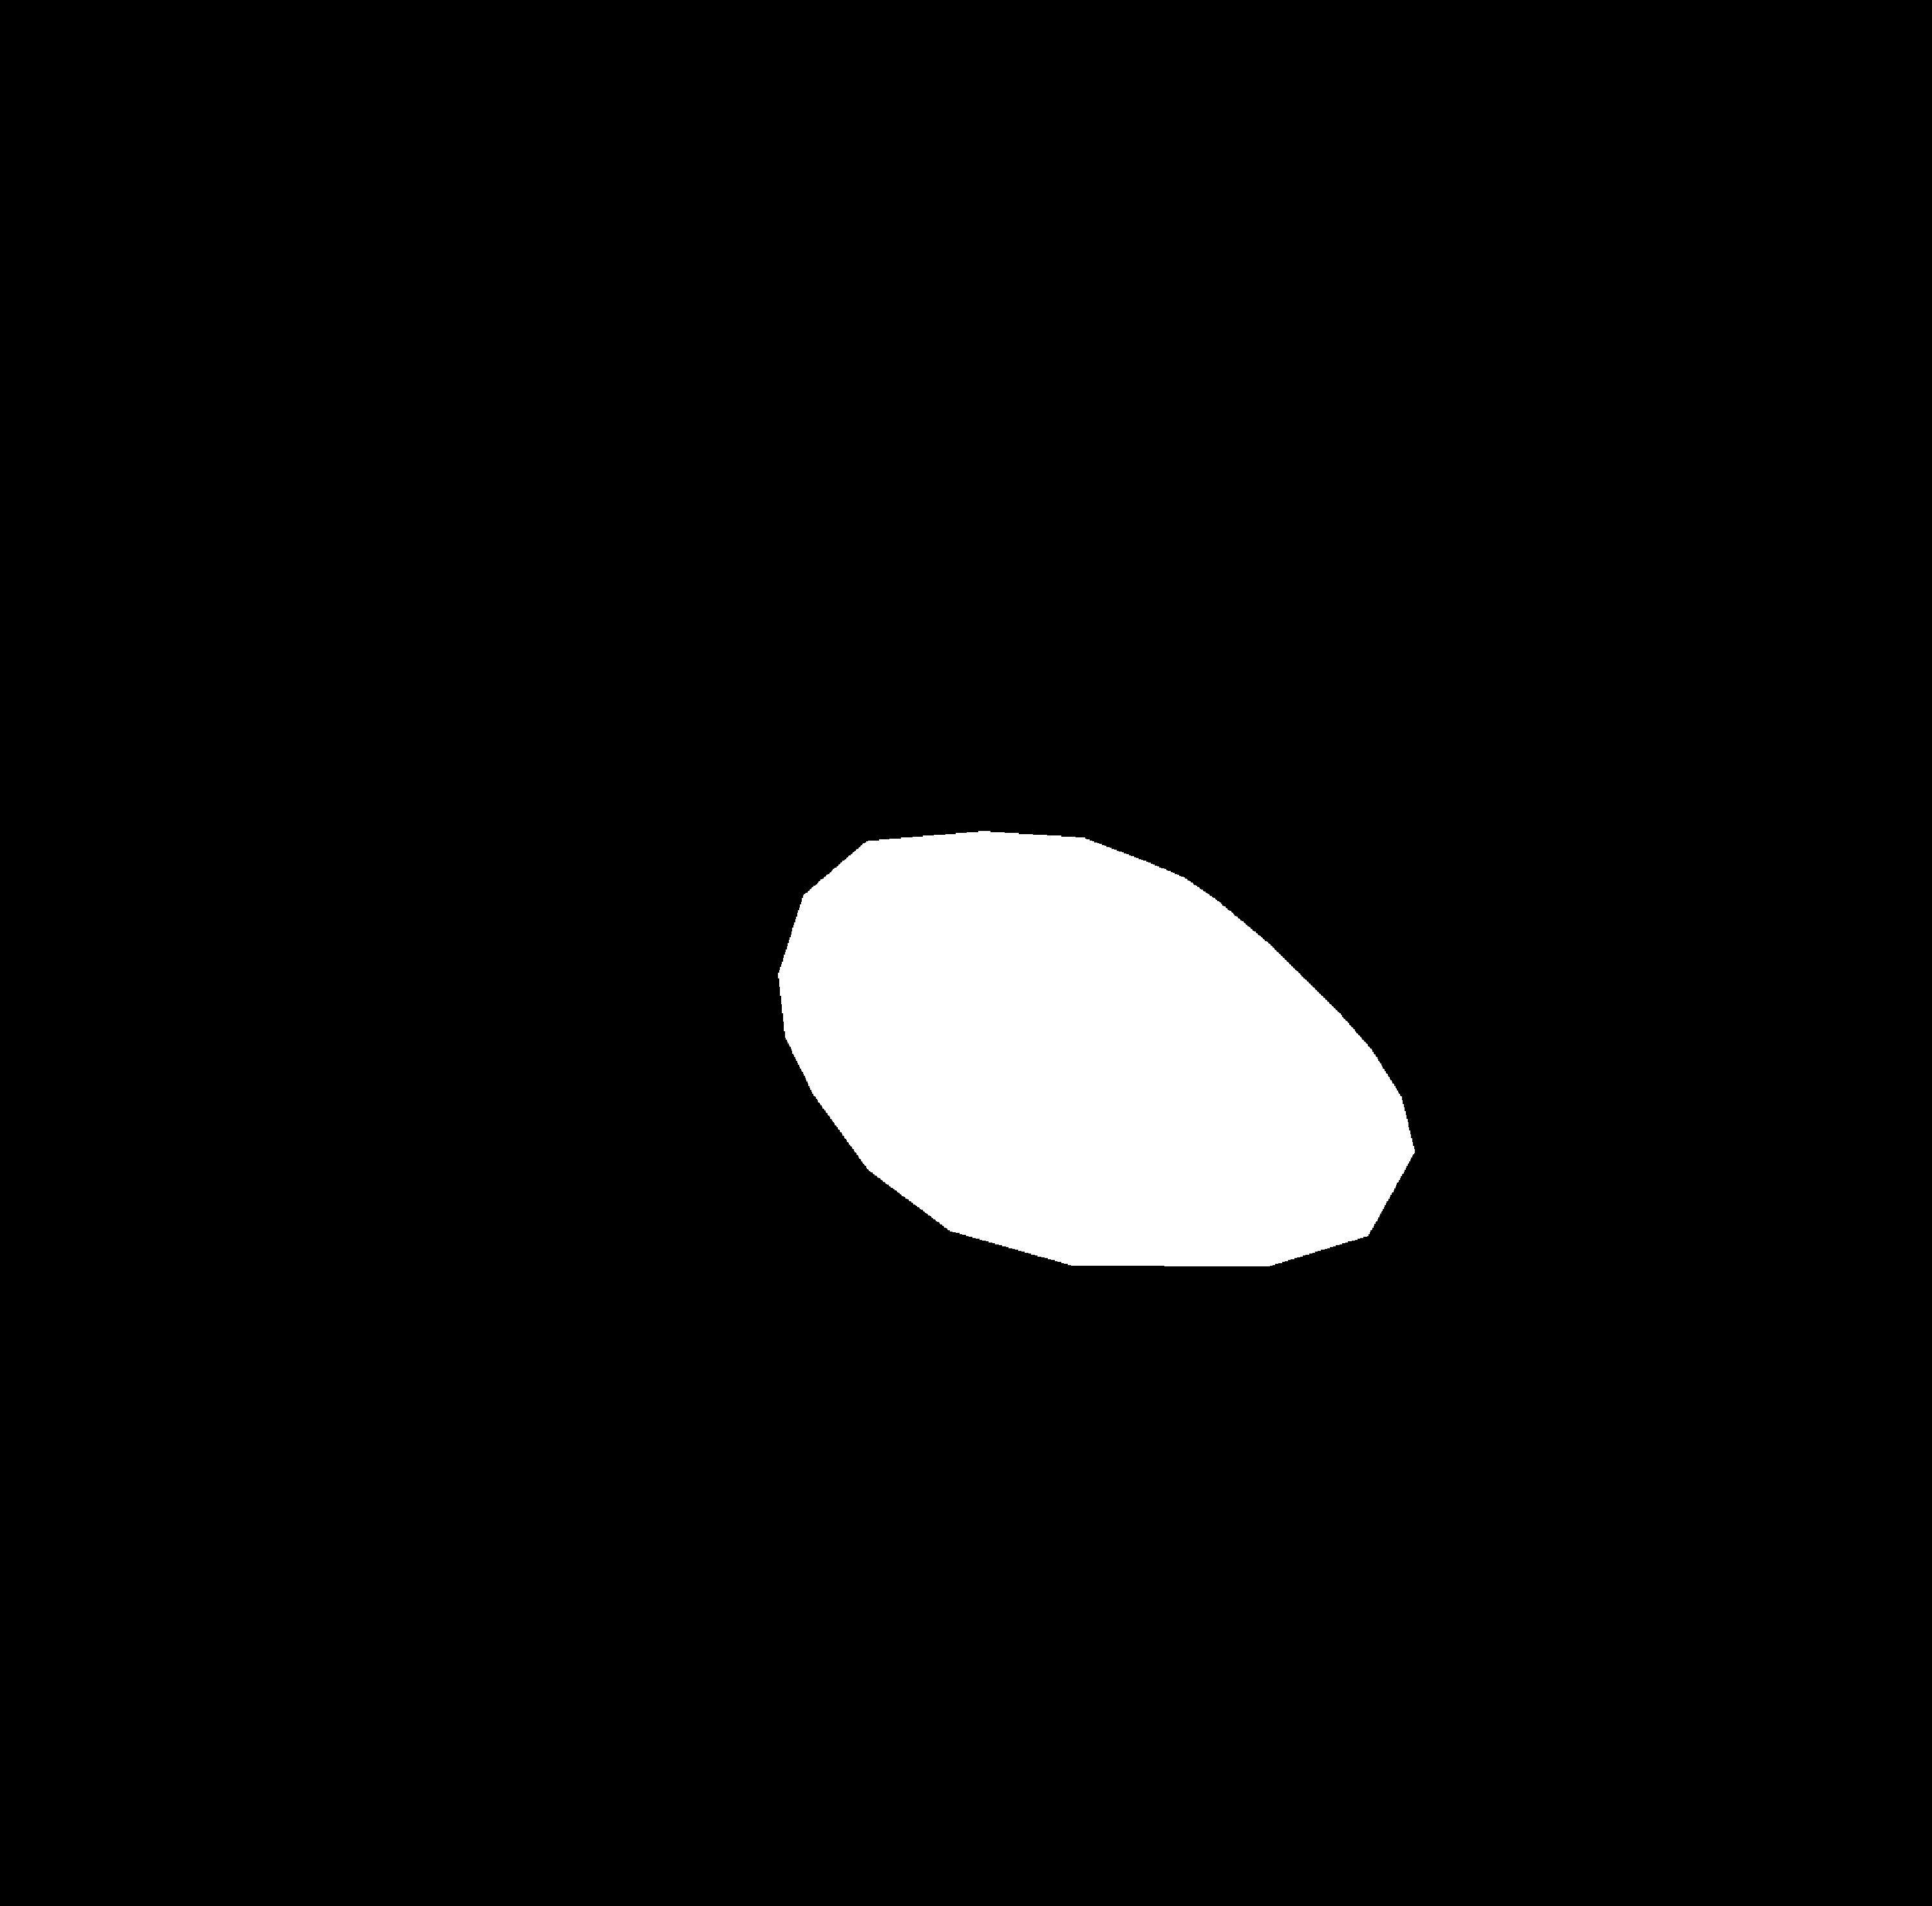heart: (784, 840, 1431, 1285)
left_lung: (253, 244, 822, 1210)
right_lung: (918, 281, 1534, 1217)
